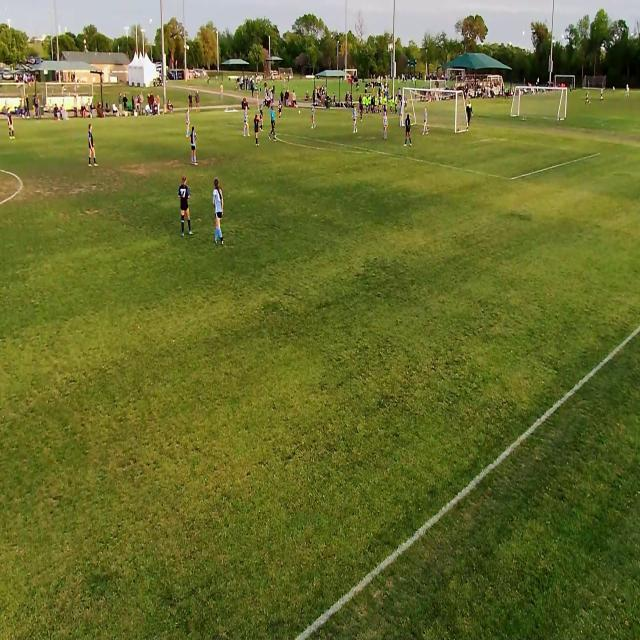ball: (298, 110, 301, 114)
team1: (180, 178, 194, 234), (88, 122, 97, 164), (8, 107, 17, 140), (405, 112, 413, 145), (253, 115, 261, 147), (277, 101, 284, 124), (359, 100, 364, 124), (260, 105, 264, 133)
team2: (213, 182, 227, 248), (190, 125, 198, 162), (242, 102, 250, 136), (186, 105, 192, 143), (382, 109, 388, 142), (422, 106, 428, 135), (351, 106, 357, 134), (310, 105, 316, 129), (398, 100, 403, 128)
